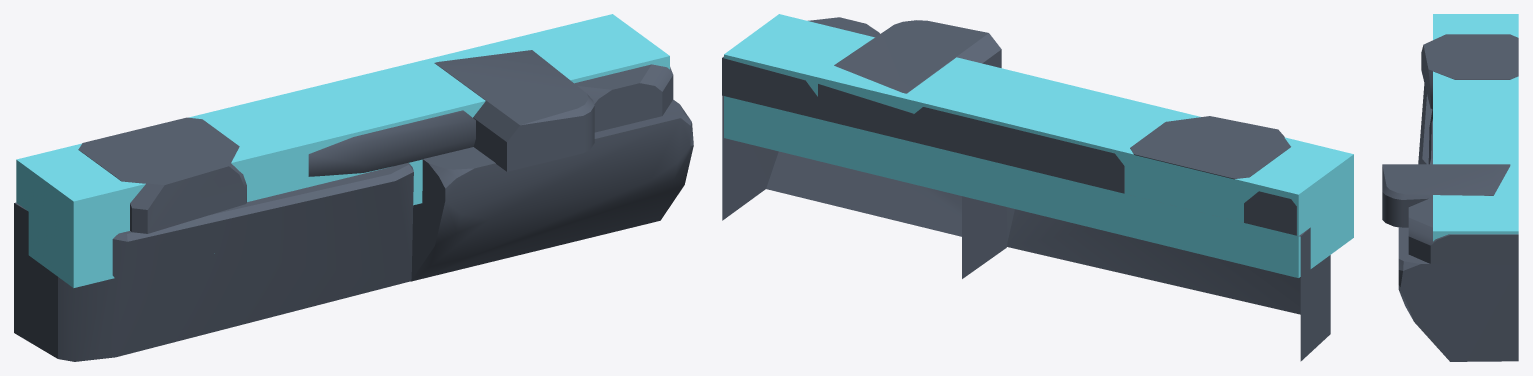
File: PBOX_MudFlA_BOD_03.FBX
The picture shows the model from 3 angles, left to right: view 1: azimuth 30°, elevation 25°; view 2: azimuth 150°, elevation 25°; view 3: azimuth 270°, elevation 25°; orthographic projection. The views are drawn at different scales.
Visible parts, largest first — view 1: PBOX3_SUB_MudFlA_BOD_002, PBOX_MudFlA_BOD_03; view 2: PBOX3_SUB_MudFlA_BOD_002, PBOX_MudFlA_BOD_03; view 3: PBOX3_SUB_MudFlA_BOD_002, PBOX_MudFlA_BOD_03.
Part boxes in pixels (x1,y1,x2,y2): PBOX3_SUB_MudFlA_BOD_002: [14, 50, 693, 361]; PBOX_MudFlA_BOD_03: [16, 14, 669, 287]; PBOX3_SUB_MudFlA_BOD_002: [722, 17, 1330, 361]; PBOX_MudFlA_BOD_03: [724, 14, 1353, 277]; PBOX3_SUB_MudFlA_BOD_002: [1382, 34, 1518, 361]; PBOX_MudFlA_BOD_03: [1433, 14, 1518, 241].
Size of the model in its own units: 18.12 by 5.02 by 4.78.
